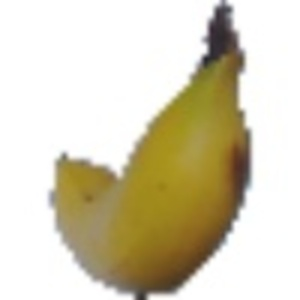banana: (46, 5, 257, 294)
